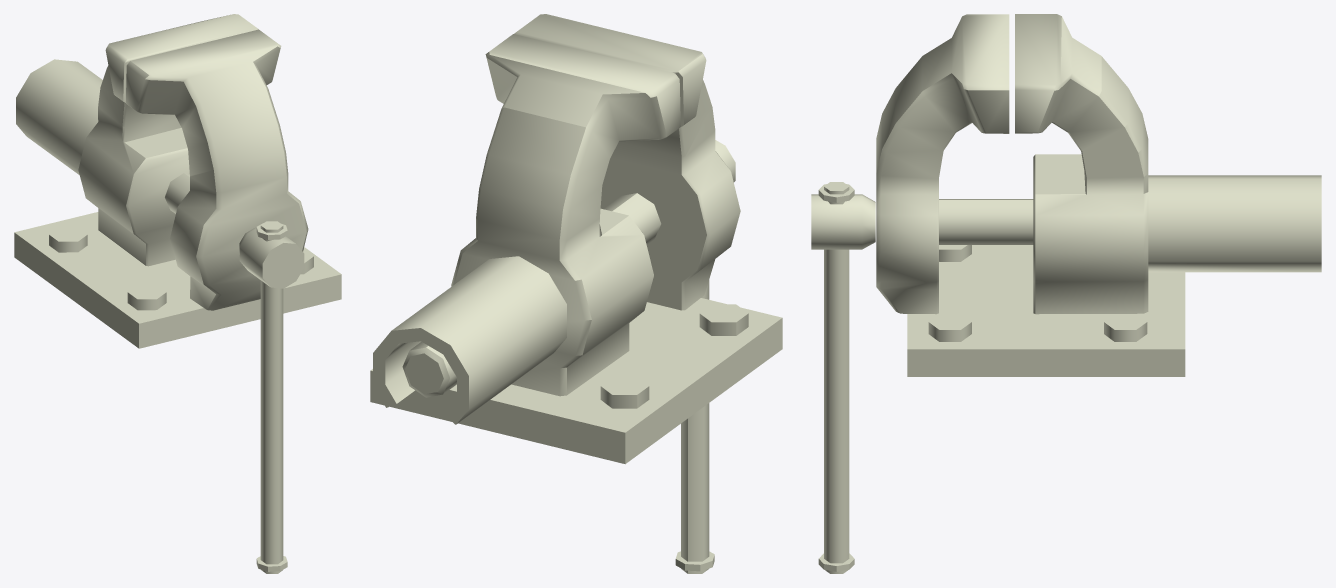
The model's file is vice1.fbx.
The picture shows the model from 3 angles, left to right: view 1: azimuth 30°, elevation 25°; view 2: azimuth 150°, elevation 25°; view 3: azimuth 270°, elevation 25°; orthographic projection. The views are drawn at different scales.
Visible parts, largest first — view 1: mex_smithy_vice; view 2: mex_smithy_vice; view 3: mex_smithy_vice.
Boxes of the visible parts, box(x1,y1,x2,y2) form: mex_smithy_vice: box(14, 14, 341, 573); mex_smithy_vice: box(370, 14, 782, 573); mex_smithy_vice: box(811, 14, 1321, 573).
Size of the model in its own units: 23.77 by 52.47 by 46.59.
